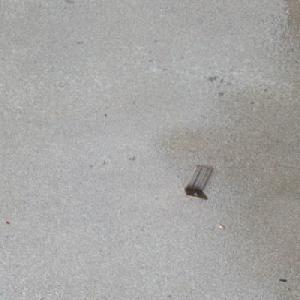MetalPart: (183, 165, 214, 200)
